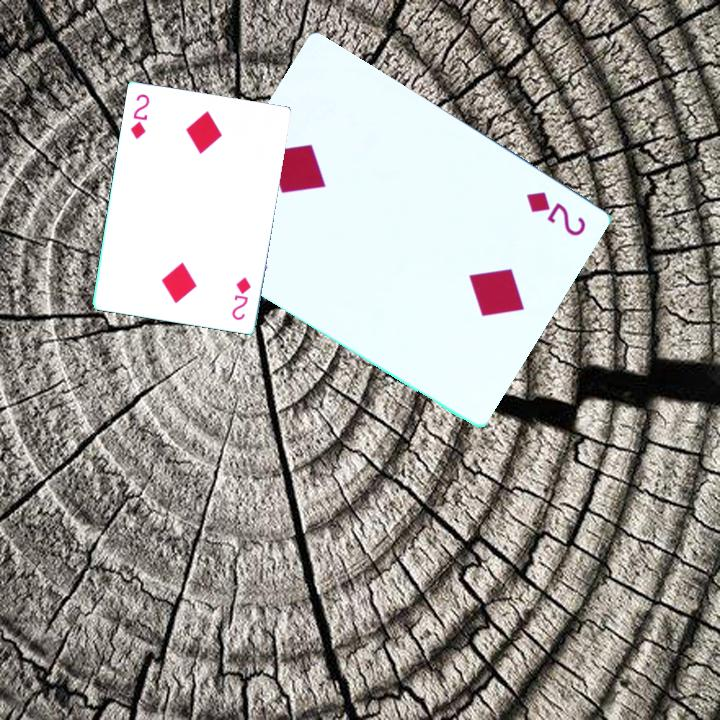2d: (522, 188, 588, 240), (127, 90, 152, 142), (228, 273, 254, 323)
